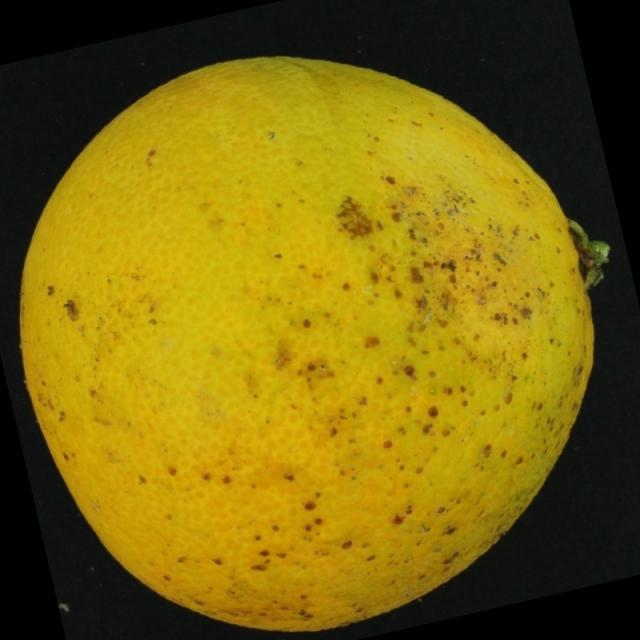grenning: (6, 32, 623, 640)
